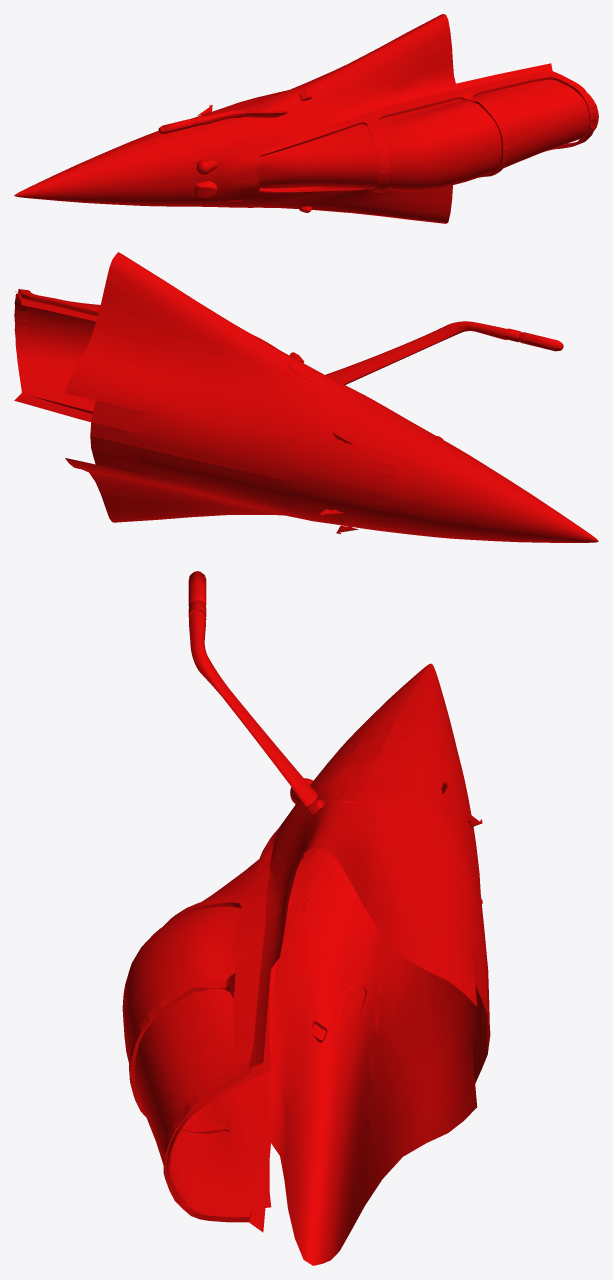
File: rafale_highlight_04.fbx
3 renders of one model, top to bottom at view 1: azimuth 30°, elevation 25°; view 2: azimuth 150°, elevation 25°; view 3: azimuth 270°, elevation 25°, orthographic. The views are drawn at different scales.
Visible parts, largest first — view 1: rafale_highlight_04; view 2: rafale_highlight_04; view 3: rafale_highlight_04.
Boxes of the visible parts, bbox=[...] form: rafale_highlight_04: bbox=[14, 14, 598, 223]; rafale_highlight_04: bbox=[14, 252, 598, 542]; rafale_highlight_04: bbox=[122, 571, 490, 1265].
Bounding box in the file's own units: 241 × 92.95 × 74.04.
